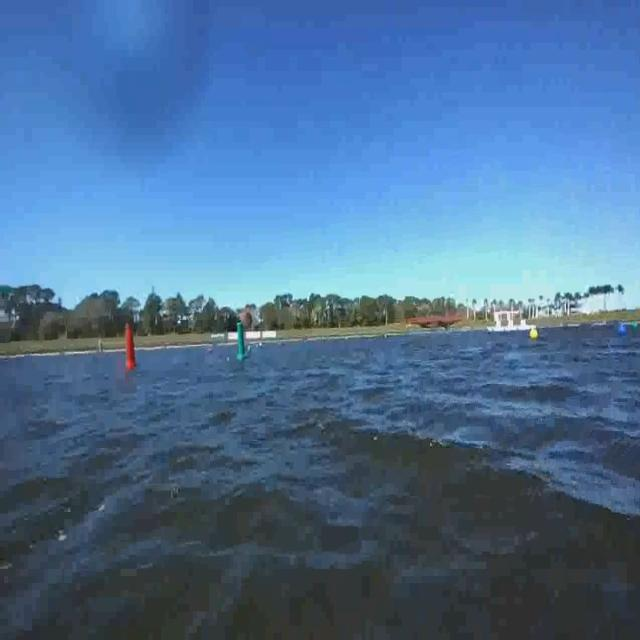green-column-buoy: (236, 321, 249, 361)
red-column-buoy: (125, 326, 139, 370)
yellow-buoy: (529, 326, 539, 340)
